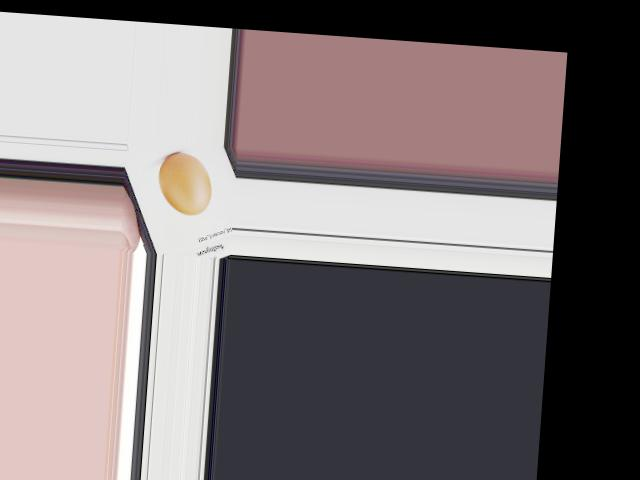egg: (155, 151, 213, 216)
